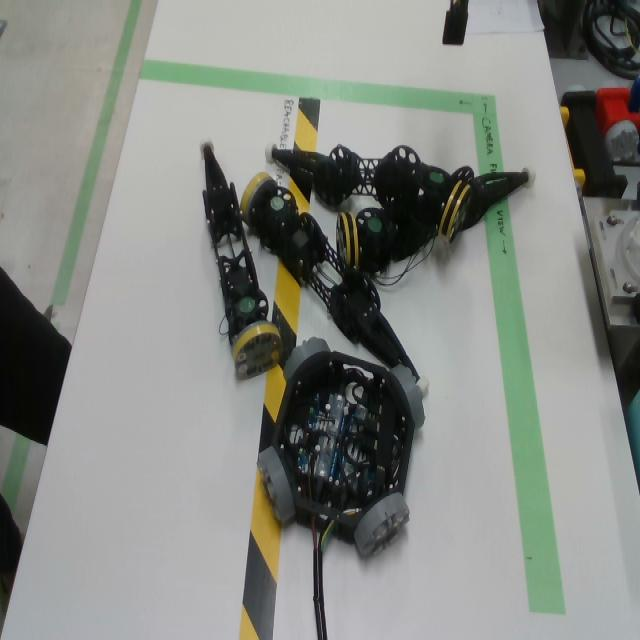body: (273, 351, 415, 543)
body_connector: (354, 493, 410, 560), (257, 445, 296, 523), (387, 364, 426, 431), (284, 337, 331, 381)
leg: (239, 172, 429, 399), (264, 141, 472, 244), (199, 136, 282, 380), (335, 207, 435, 273), (452, 165, 529, 231)
leg_connector: (232, 319, 283, 381), (439, 181, 472, 244), (240, 172, 276, 227), (336, 212, 359, 269)
leg_marker: (240, 297, 255, 313), (368, 217, 383, 233), (270, 197, 284, 211), (429, 172, 445, 183)
